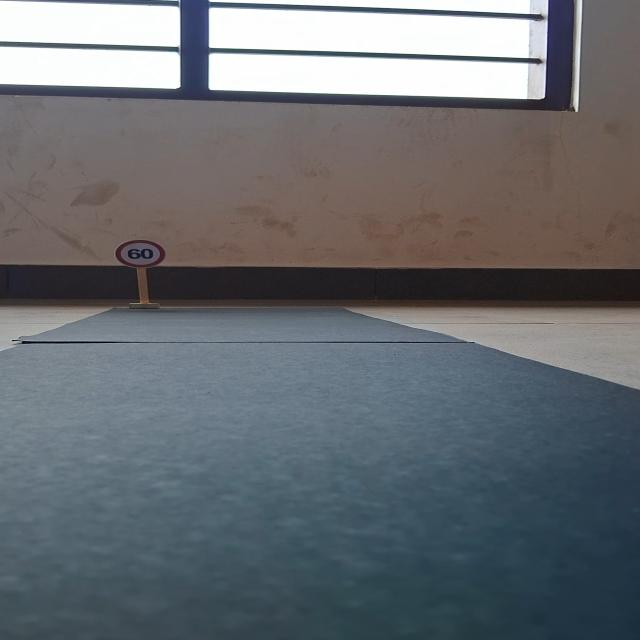Speed60: (115, 237, 170, 269)
